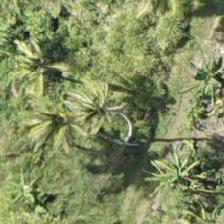coconut_tree: (6, 84, 96, 174), (64, 69, 154, 159), (0, 26, 78, 116)
